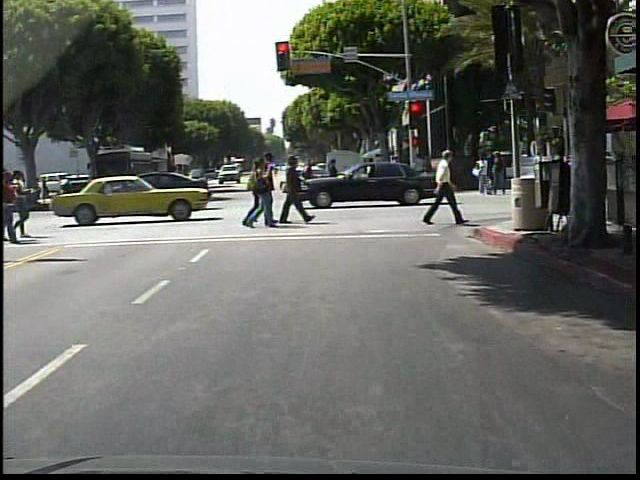person: (424, 141, 467, 233)
